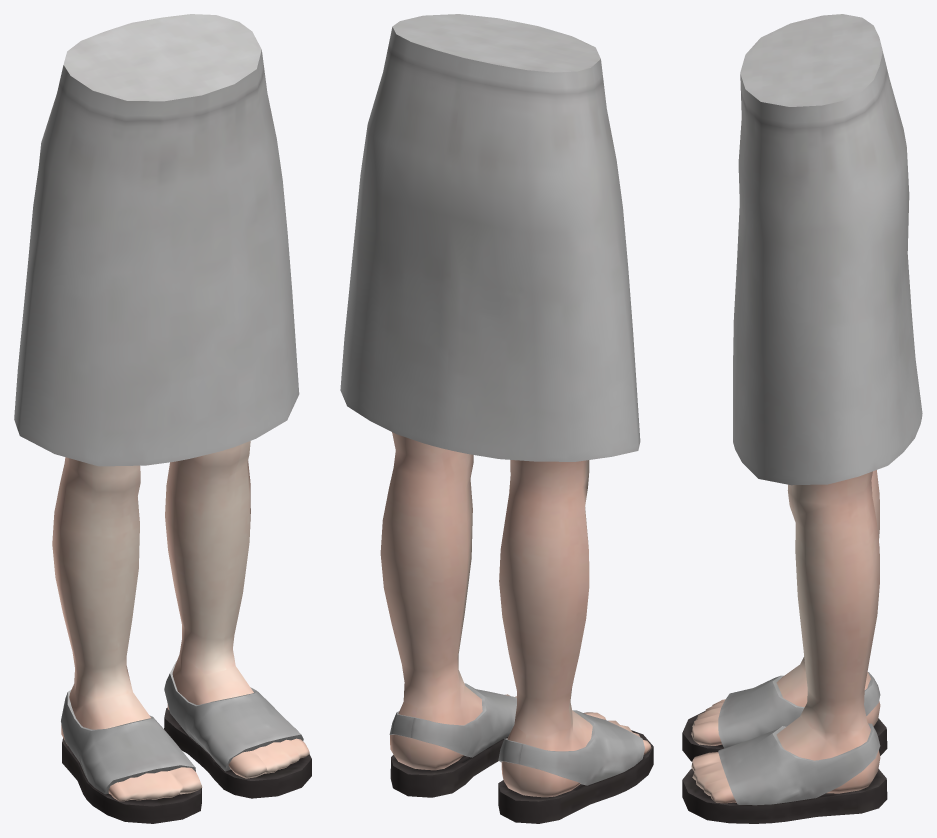
File: tr0850_00_lwb01.gltf
3 renders of one model, left to right at view 1: azimuth 30°, elevation 25°; view 2: azimuth 150°, elevation 25°; view 3: azimuth 270°, elevation 25°, orthographic. The views are drawn at different scales.
Parts seen in each view (by area): view 1: lwb01_lowerbody_mesh_shape:lowerbody01, lwb01_lowerskin_mesh_shape:lowerbody01_skin, lwb01_shoes_mesh_shape:lowerbody01; view 2: lwb01_lowerbody_mesh_shape:lowerbody01, lwb01_lowerskin_mesh_shape:lowerbody01_skin, lwb01_shoes_mesh_shape:lowerbody01; view 3: lwb01_lowerbody_mesh_shape:lowerbody01, lwb01_lowerskin_mesh_shape:lowerbody01_skin, lwb01_shoes_mesh_shape:lowerbody01.
Boxes of the visible parts, box(x1,y1,x2,y2) form: lwb01_lowerbody_mesh_shape:lowerbody01: box(14, 14, 299, 466); lwb01_lowerskin_mesh_shape:lowerbody01_skin: box(52, 441, 309, 801); lwb01_shoes_mesh_shape:lowerbody01: box(61, 661, 311, 823); lwb01_lowerbody_mesh_shape:lowerbody01: box(340, 14, 640, 461); lwb01_lowerskin_mesh_shape:lowerbody01_skin: box(380, 432, 651, 797); lwb01_shoes_mesh_shape:lowerbody01: box(389, 683, 653, 823); lwb01_lowerbody_mesh_shape:lowerbody01: box(733, 14, 922, 485); lwb01_lowerskin_mesh_shape:lowerbody01_skin: box(691, 470, 880, 803); lwb01_shoes_mesh_shape:lowerbody01: box(682, 672, 887, 823).
Size of what is drawn, in the model's own units: 0.4136 by 1.02 by 0.3057.
Materials: 2 (2 with a texture image).
